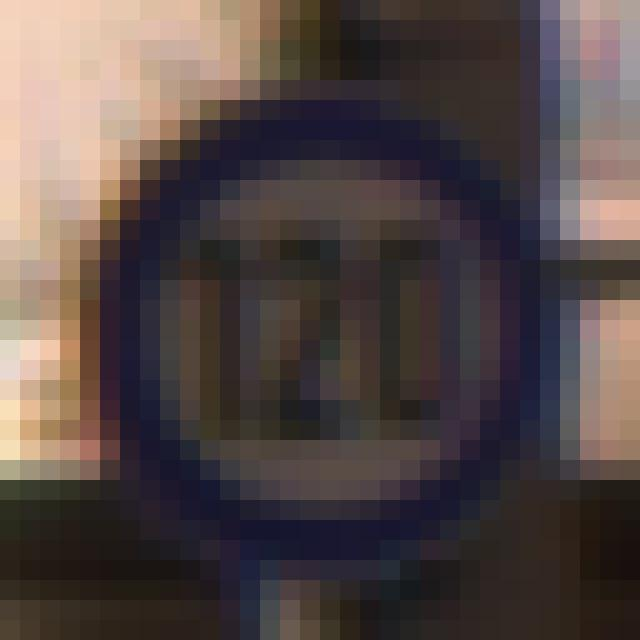SPEED LIMIT 120: (83, 103, 573, 552)
